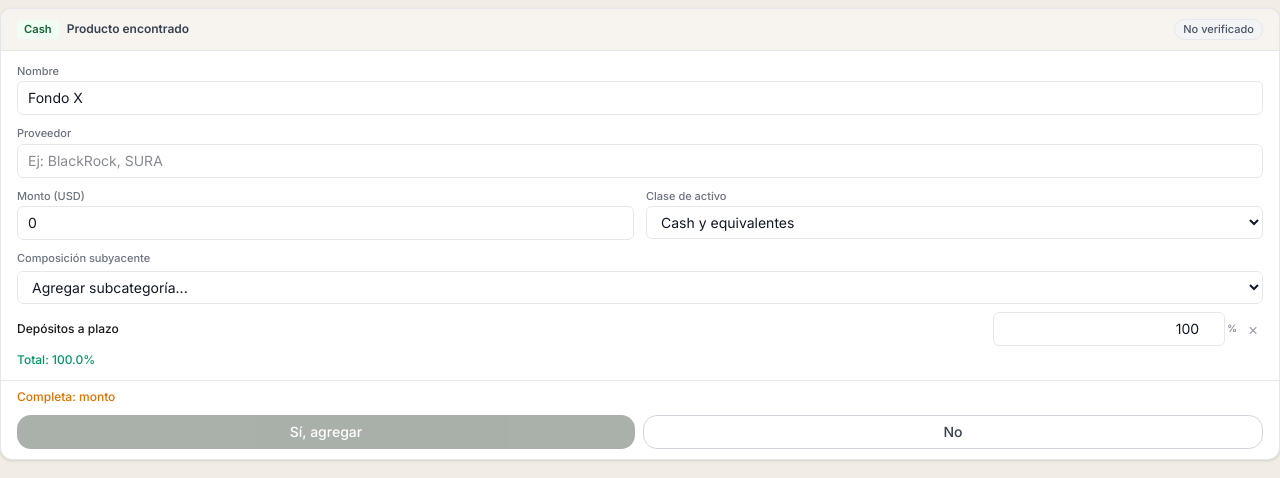
ProposeProductCard field editing › editing amount to a valid positive number clears the warning
expect the text "Completa: monto" is shown: met, box [17, 389, 115, 404]
expect the button "Sí, agregar" is disabled: met, box [17, 415, 635, 449]
Replace the text in the number field labelled "Monto (USD)" with "500" at (326, 223), box [17, 206, 634, 240]
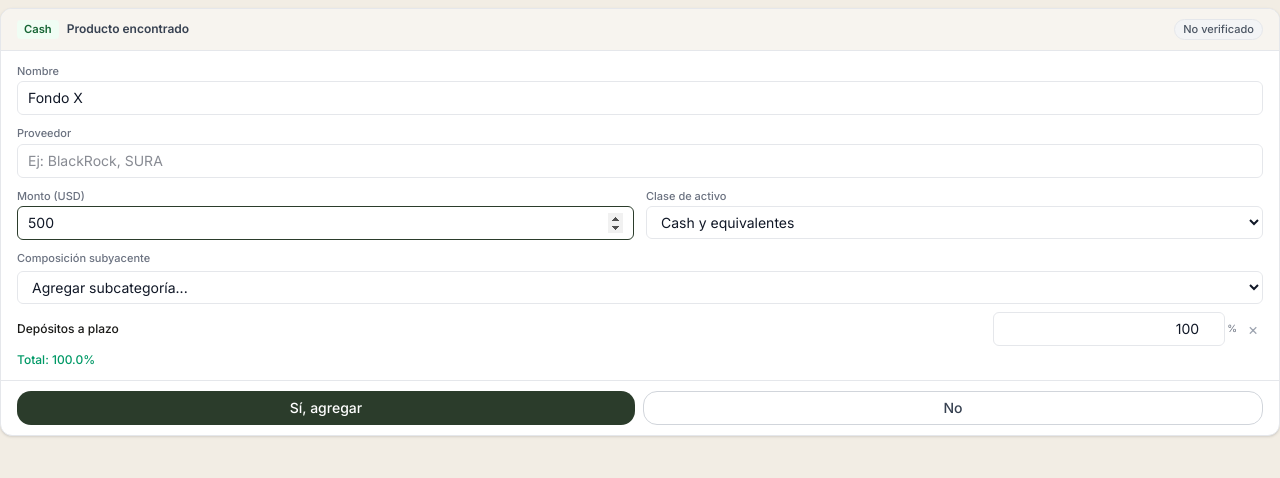
expect the text "Completa:" is gone: met
expect the button "Sí, agregar" is enabled: met, box [17, 391, 635, 425]
